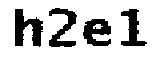1: (115, 5, 150, 49)
2: (46, 6, 79, 53)
e: (82, 17, 115, 48)
h: (8, 4, 44, 50)
